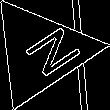N_SW: (6, 20, 76, 83)
